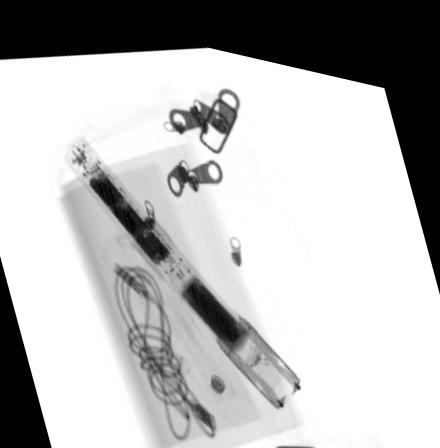Baton: (61, 129, 305, 399)
